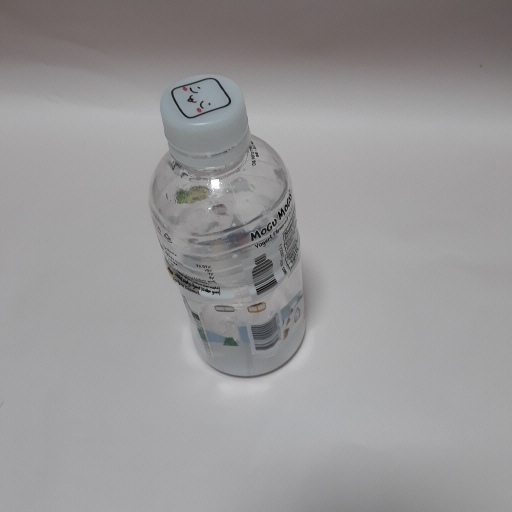Plastic_0: (150, 75, 309, 379)
